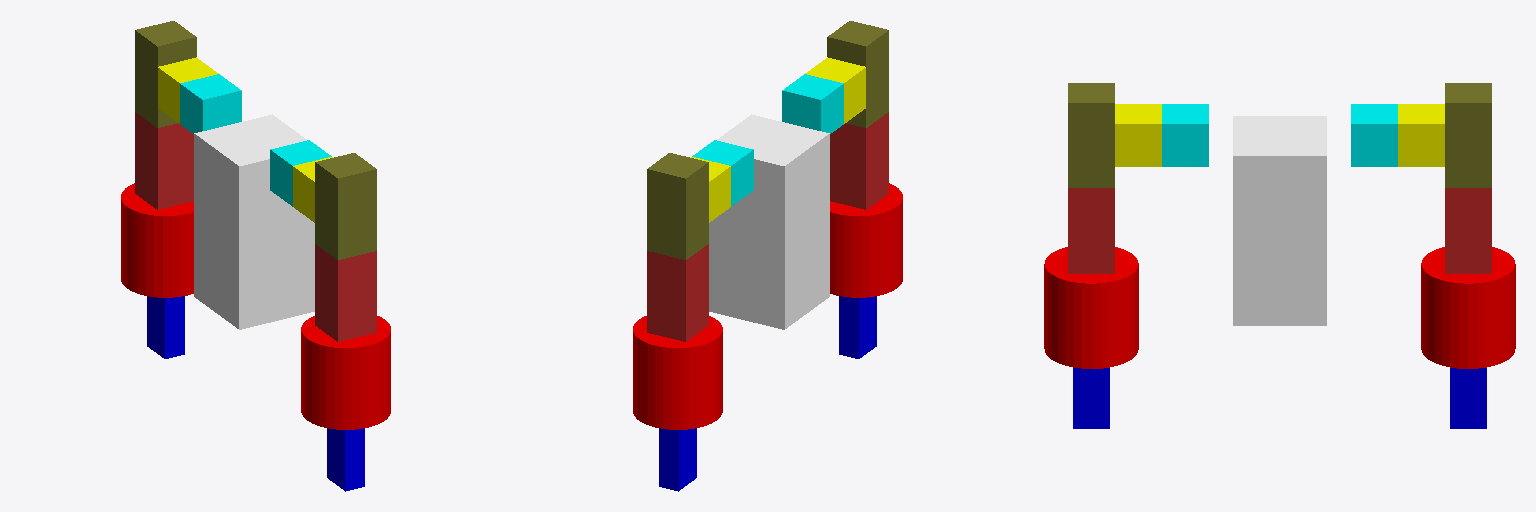
The robot description file, URDF, robot "robot":
<?xml version='1.0' encoding='utf-8'?>
<robot name="robot">
  <link name="root">
    <inertial>
      <origin xyz="0 0 0.5" rpy="0 0 0" />
      <mass value="1" />
      <inertia ixx="100" ixy="0" ixz="0" iyy="100" iyz="0" izz="100" />
      </inertial>
    <visual>
      <origin xyz="0.0 0.0 0.0" rpy="0.0 0.0 0.0" />
      <geometry>
        <box size="0.2 0.2 0.4" />
        </geometry>
      <material name="Cyan">
        <color rgba="1.0 1.0 1.0 1.0" />
        </material>
      </visual>
    <visual>
      <origin xyz="0.0 0.0 0.4" rpy="0.0 0.0 0.0" />
      <geometry>
        <mesh filename="teapot.stl" />
        </geometry>
      <material name="Red">
        <color rgba="1.0 0.0 0.0 1.0" />
        </material>
      </visual>
    <collision>
      <origin xyz="0.0 0.0 -0.1" rpy="0.0 0.0 0.0" />
      <geometry>
        <capsule radius="0.2" length="0.2" />
        </geometry>
      </collision>
    <collision>
      <origin xyz="0 0 0.4" rpy="0 0 0" />
      <geometry>
        <sphere radius="0.2" />
        </geometry>
      </collision>
    </link>
  <link name="l_shoulder1">
    <visual>
      <origin xyz="0.0 0.0 0.0" rpy="0.0 0.0 0.0" />
      <geometry>
        <box size="0.1 0.1 0.1" />
        </geometry>
      <material name="Cyan">
        <color rgba="0 1.0 1.0 1.0" />
        </material>
      </visual>
    </link>
  <link name="l_shoulder2">
    <visual>
      <origin xyz="0.0 0.0 0.0" rpy="0.0 0.0 0.0" />
      <geometry>
        <box size="0.1 0.1 0.1" />
        </geometry>
      <material name="Cyan">
        <color rgba="1.0 1.0 0.0 1.0" />
        </material>
      </visual>
    </link>
  <link name="l_shoulder3">
    <visual>
      <origin xyz="0.0 0.0 0.0" rpy="0.0 0.0 0.0" />
      <geometry>
        <box size="0.1 0.1 0.2" />
        </geometry>
      <material name="Cyan">
        <color rgba="0.5 0.5 0.2 1.0" />
        </material>
      </visual>
    </link>
  <link name="l_elbow1">
    <visual>
      <origin xyz="0.0 0.0 0.0" rpy="0.0 0.0 0.0" />
      <geometry>
        <box size="0.1 0.1 0.2" />
        </geometry>
      <material name="Cyan">
        <color rgba="0.8 0.2 0.2 1.0" />
        </material>
      </visual>
    </link>
  <link name="l_wrist1">
    <visual>
      <origin xyz="0.0 0.0 0.0" rpy="0.0 0.0 0.0" />
      <geometry>
        <cylinder radius="0.1" length="0.2" />
        </geometry>
      <material name="Cyan">
        <color rgba="1.0 0.0 0.0 1.0" />
        </material>
      </visual>
    </link>
  <link name="l_wrist2">
    <visual>
      <origin xyz="0.0 0.0 0.0" rpy="0.0 0.0 0.0" />
      <geometry>
        <box size="0.05 0.08 0.15" />
        </geometry>
      <material name="Cyan">
        <color rgba="0.0 0.0 1.0 1.0" />
        </material>
      </visual>
    </link>
  <link name="r_shoulder1">
    <visual>
      <origin xyz="0.0 0.0 0.0" rpy="0.0 0.0 0.0" />
      <geometry>
        <box size="0.1 0.1 0.1" />
        </geometry>
      <material name="Cyan">
        <color rgba="0 1.0 1.0 1.0" />
        </material>
      </visual>
    </link>
  <link name="r_shoulder2">
    <visual>
      <origin xyz="0.0 0.0 0.0" rpy="0.0 0.0 0.0" />
      <geometry>
        <box size="0.1 0.1 0.1" />
        </geometry>
      <material name="Cyan">
        <color rgba="1.0 1.0 0.0 1.0" />
        </material>
      </visual>
    </link>
  <link name="r_shoulder3">
    <visual>
      <origin xyz="0.0 0.0 0.0" rpy="0.0 0.0 0.0" />
      <geometry>
        <box size="0.1 0.1 0.2" />
        </geometry>
      <material name="Cyan">
        <color rgba="0.5 0.5 0.2 1.0" />
        </material>
      </visual>
    </link>
  <link name="r_elbow1">
    <visual>
      <origin xyz="0.0 0.0 0.0" rpy="0.0 0.0 0.0" />
      <geometry>
        <box size="0.1 0.1 0.2" />
        </geometry>
      <material name="Cyan">
        <color rgba="0.8 0.2 0.2 1.0" />
        </material>
      </visual>
    </link>
  <link name="r_wrist1">
    <visual>
      <origin xyz="0.0 0.0 0.0" rpy="0.0 0.0 0.0" />
      <geometry>
        <cylinder radius="0.1" length="0.2" />
        </geometry>
      <material name="Cyan">
        <color rgba="1.0 0.0 0.0 1.0" />
        </material>
      </visual>
    </link>
  <link name="r_wrist2">
    <visual>
      <origin xyz="0.0 0.0 0.0" rpy="0.0 0.0 0.0" />
      <geometry>
        <box size="0.05 0.08 0.15" />
        </geometry>
      <material name="Cyan">
        <color rgba="0.0 0.0 1.0 1.0" />
        </material>
      </visual>
    </link>
  <joint name="l_shoulder_yaw" type="revolute">
    <origin xyz="0.0 0.2 0.2" />
    <parent link="root" />
    <child link="l_shoulder1" />
    <axis xyz="0 0 1" />
    <limit lower="-1" upper="1.0" effort="0" velocity="1.0" />
    </joint>
  <joint name="l_shoulder_pitch" type="revolute">
    <origin xyz="0.0 0.1 0.0" />
    <parent link="l_shoulder1" />
    <child link="l_shoulder2" />
    <axis xyz="0 1 0" />
    <limit lower="-1" upper="1.0" effort="0" velocity="1.0" />
    </joint>
  <joint name="l_shoulder_roll" type="revolute">
    <origin xyz="0.0 0.1 0.0" />
    <parent link="l_shoulder2" />
    <child link="l_shoulder3" />
    <axis xyz="1 0 0" />
    <limit lower="-2" upper="1.0" effort="0" velocity="1.0" />
    </joint>
  <joint name="l_elbow_pitch" type="revolute">
    <origin xyz="0.0 0.0 -0.2" />
    <parent link="l_shoulder3" />
    <child link="l_elbow1" />
    <axis xyz="0 1 0" />
    <limit lower="-2" upper="1.0" effort="0" velocity="1.0" />
    </joint>
  <joint name="l_wrist_yaw" type="revolute">
    <origin xyz="0.0 0.0 -0.2" />
    <parent link="l_elbow1" />
    <child link="l_wrist1" />
    <axis xyz="0 0 1" />
    <limit lower="-2" upper="1.0" effort="0" velocity="1.0" />
    </joint>
  <joint name="l_wrist_pitch" type="revolute">
    <origin xyz="0.0 0.0 -0.2" />
    <parent link="l_wrist1" />
    <child link="l_wrist2" />
    <axis xyz="0 1 0" />
    <limit lower="-2" upper="1.0" effort="0" velocity="1.0" />
    </joint>
  <joint name="r_shoulder_yaw" type="revolute">
    <origin xyz="0.0 -0.2 0.2" />
    <parent link="root" />
    <child link="r_shoulder1" />
    <axis xyz="0 0 1" />
    <limit lower="-1" upper="1.0" effort="0" velocity="1.0" />
    </joint>
  <joint name="r_shoulder_pitch" type="revolute">
    <origin xyz="0.0 -0.1 0.0" />
    <parent link="r_shoulder1" />
    <child link="r_shoulder2" />
    <axis xyz="0 1 0" />
    <limit lower="-1" upper="1.0" effort="0" velocity="1.0" />
    </joint>
  <joint name="r_shoulder_roll" type="revolute">
    <origin xyz="0.0 -0.1 0.0" />
    <parent link="r_shoulder2" />
    <child link="r_shoulder3" />
    <axis xyz="1 0 0" />
    <limit lower="-2" upper="1.0" effort="0" velocity="1.0" />
    </joint>
  <joint name="r_elbow_pitch" type="revolute">
    <origin xyz="0.0 0.0 -0.2" />
    <parent link="r_shoulder3" />
    <child link="r_elbow1" />
    <axis xyz="0 1 0" />
    <limit lower="-2" upper="1.0" effort="0" velocity="1.0" />
    </joint>
  <joint name="r_wrist_yaw" type="revolute">
    <origin xyz="0.0 0.0 -0.2" />
    <parent link="r_elbow1" />
    <child link="r_wrist1" />
    <axis xyz="0 0 1" />
    <limit lower="-2" upper="1.0" effort="0" velocity="1.0" />
    </joint>
  <joint name="r_wrist_pitch" type="revolute">
    <origin xyz="0.0 0.0 -0.2" />
    <parent link="r_wrist1" />
    <child link="r_wrist2" />
    <axis xyz="0 1 0" />
    <limit lower="-2" upper="1.0" effort="0" velocity="1.0" />
    </joint>
  </robot>

--- Facts derived from the render (not from the file) ---
The picture shows the robot from 3 angles, left to right: view 1: azimuth 30°, elevation 25°; view 2: azimuth 150°, elevation 25°; view 3: azimuth 270°, elevation 25°; orthographic projection.
Model robot with 13 links and 12 joints (12 revolute), rooted at root, posed every joint at zero.
Links seen in each view (by area): view 1: root, r_wrist1, l_wrist1, r_shoulder3, r_elbow1, l_elbow1, l_shoulder3, l_shoulder1, l_wrist2, r_wrist2, r_shoulder1, l_shoulder2 (+1 smaller); view 2: root, l_wrist1, r_wrist1, l_shoulder3, l_elbow1, r_elbow1, r_shoulder3, r_shoulder1, r_wrist2, l_wrist2, l_shoulder1, r_shoulder2 (+1 smaller); view 3: root, l_wrist1, r_wrist1, l_shoulder3, r_shoulder3, l_elbow1, r_elbow1, l_shoulder1, l_shoulder2, r_shoulder1, r_shoulder2, l_wrist2 (+1 smaller).
Link boxes in pixels (x1,y1,x2,y2): root: (194,114,314,329); r_wrist1: (301,316,390,429); l_wrist1: (121,183,193,297); r_shoulder3: (315,153,376,259); r_elbow1: (315,244,376,341); l_elbow1: (135,112,193,209); l_shoulder3: (135,21,196,127); l_shoulder1: (180,74,241,133); l_wrist2: (147,296,184,358); r_wrist2: (327,428,364,491); r_shoulder1: (270,140,331,206); l_shoulder2: (158,57,218,123); root: (709,114,829,329); l_wrist1: (633,316,722,429); r_wrist1: (830,183,902,297); l_shoulder3: (647,153,708,259); l_elbow1: (647,244,708,341); r_elbow1: (830,112,888,209); r_shoulder3: (827,21,888,127); r_shoulder1: (782,74,843,133); r_wrist2: (839,296,876,358); l_wrist2: (659,428,696,491); l_shoulder1: (692,140,753,206); r_shoulder2: (805,57,865,123); root: (1233,116,1326,325); l_wrist1: (1421,247,1515,368); r_wrist1: (1044,247,1138,368); l_shoulder3: (1445,83,1491,187); r_shoulder3: (1068,83,1114,187); l_elbow1: (1445,188,1491,273); r_elbow1: (1068,188,1114,273); l_shoulder1: (1351,104,1397,166); l_shoulder2: (1398,104,1444,166); r_shoulder1: (1162,104,1208,166); r_shoulder2: (1115,104,1161,166); l_wrist2: (1450,368,1486,428).
Size in the robot's own frame: 0.2 by 1 by 0.775 metres.
Meshes: 1 distinct files referenced, 0 mesh visuals loaded (none loaded); not drawn: 1 (file found but could not be loaded).